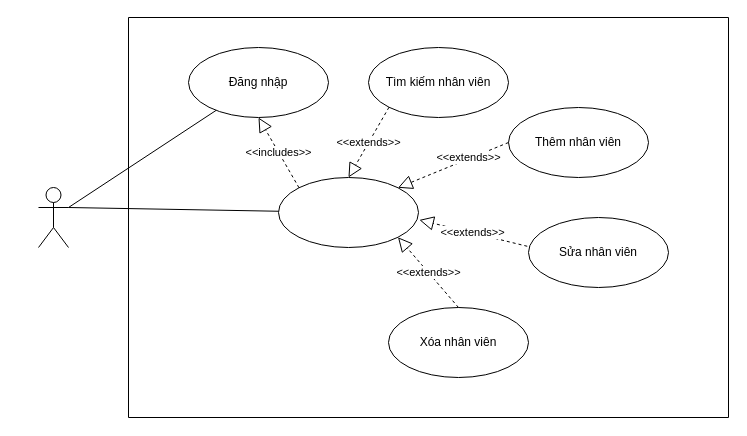
The diagram is 747 pixels wide and 436 high, and some of its shapes have lost their labels. Here are the shapes that lost their labels. From the top down, the centre of each, then its label:
point (53, 217): Nhân viên QL
point (348, 212): Quản lý nhân viên
